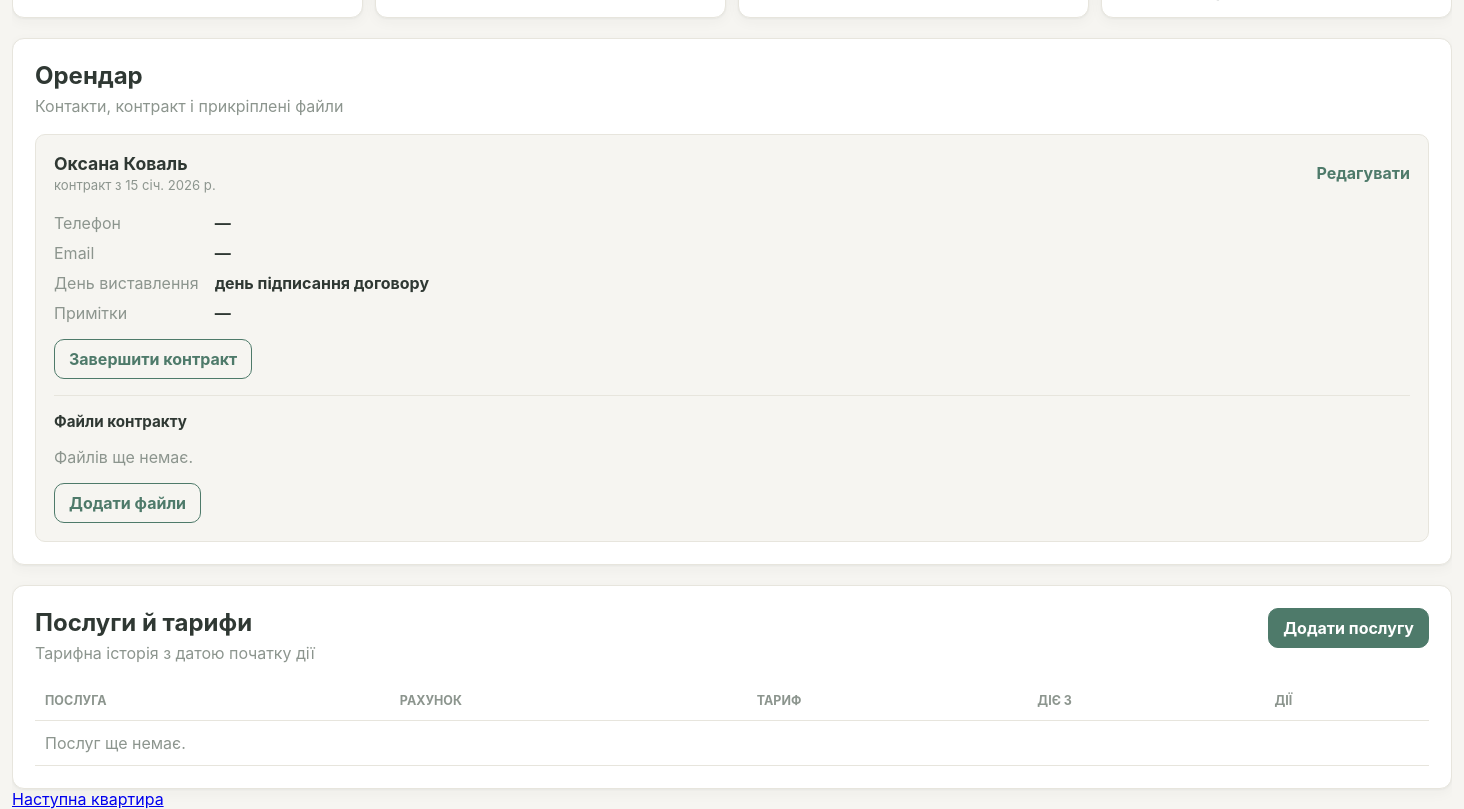
Test: ApartmentDetail › clears the previous contract date when another apartment tenant load fails
(page scrolled)
Click the link "Наступна квартира". click: (88, 799)
box: [12, 789, 164, 808]
(page scrolled)
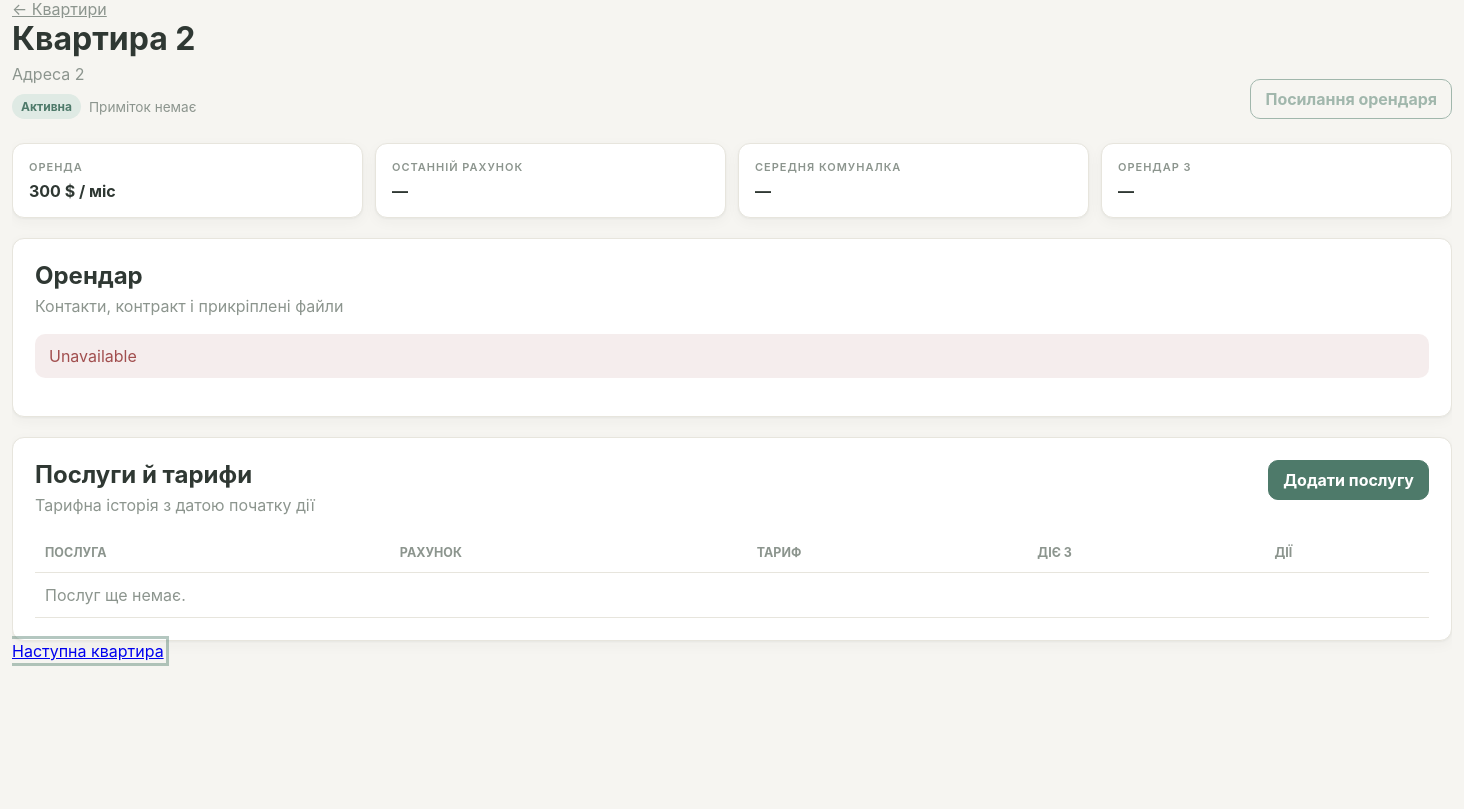
expect the heading "Квартира 2" is shown: met, box [12, 19, 196, 58]
expect the text "Unavailable" is shown: met, box [35, 334, 1429, 378]
expect the text "—" is shown 3 times: met, box [392, 181, 408, 201]; [755, 181, 771, 201]; [1118, 181, 1134, 201]
